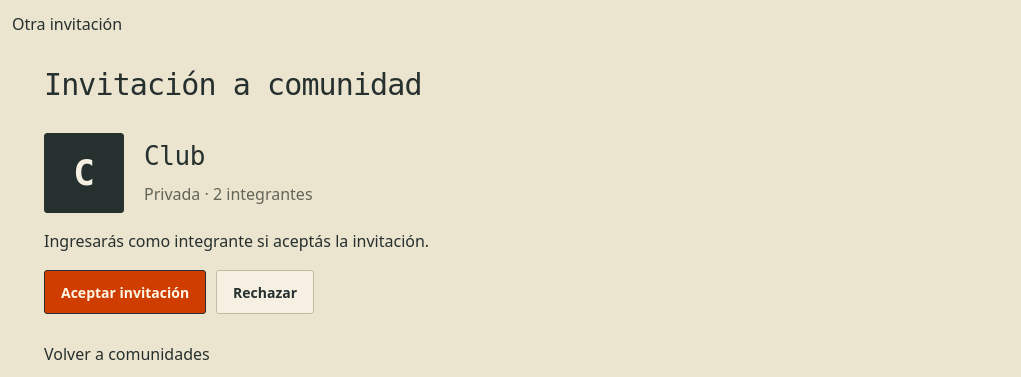
Test: una revocación entre la vista previa y la aceptación se comunica sin confirmar ingreso
Click the button "Aceptar invitación": (125, 292) [44,270,206,314]
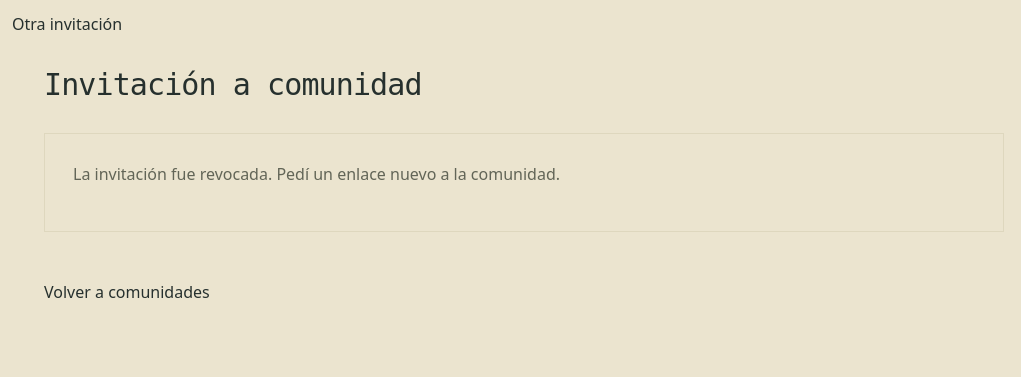
Now the message shows "revocada", box [73,163,560,185]
